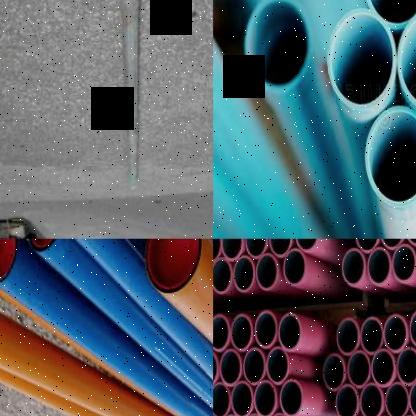pipe: (327, 9, 396, 110), (242, 0, 310, 92), (365, 107, 416, 207), (145, 239, 201, 293), (397, 10, 416, 110), (363, 0, 416, 29), (392, 243, 416, 281), (280, 380, 303, 416), (266, 348, 289, 384), (323, 354, 345, 390), (342, 250, 364, 285), (368, 249, 390, 284), (0, 239, 17, 284), (385, 383, 408, 416), (372, 350, 393, 386), (220, 350, 241, 386), (279, 314, 300, 350), (361, 318, 383, 352), (384, 316, 406, 350), (255, 381, 276, 416), (256, 311, 276, 347), (284, 250, 305, 284), (244, 349, 264, 384), (232, 315, 252, 350), (234, 256, 254, 291), (337, 320, 358, 353), (257, 255, 277, 289), (360, 384, 381, 416), (397, 348, 416, 383), (336, 386, 358, 416), (232, 383, 252, 416), (349, 353, 369, 386), (213, 258, 231, 292), (213, 383, 230, 416), (213, 316, 229, 350), (28, 239, 64, 252), (221, 239, 243, 259), (246, 239, 267, 257), (269, 239, 291, 256), (295, 239, 318, 251), (357, 239, 378, 252), (410, 310, 416, 346), (380, 239, 404, 248), (410, 381, 416, 416), (213, 239, 220, 261), (213, 350, 217, 386), (404, 239, 416, 245)
